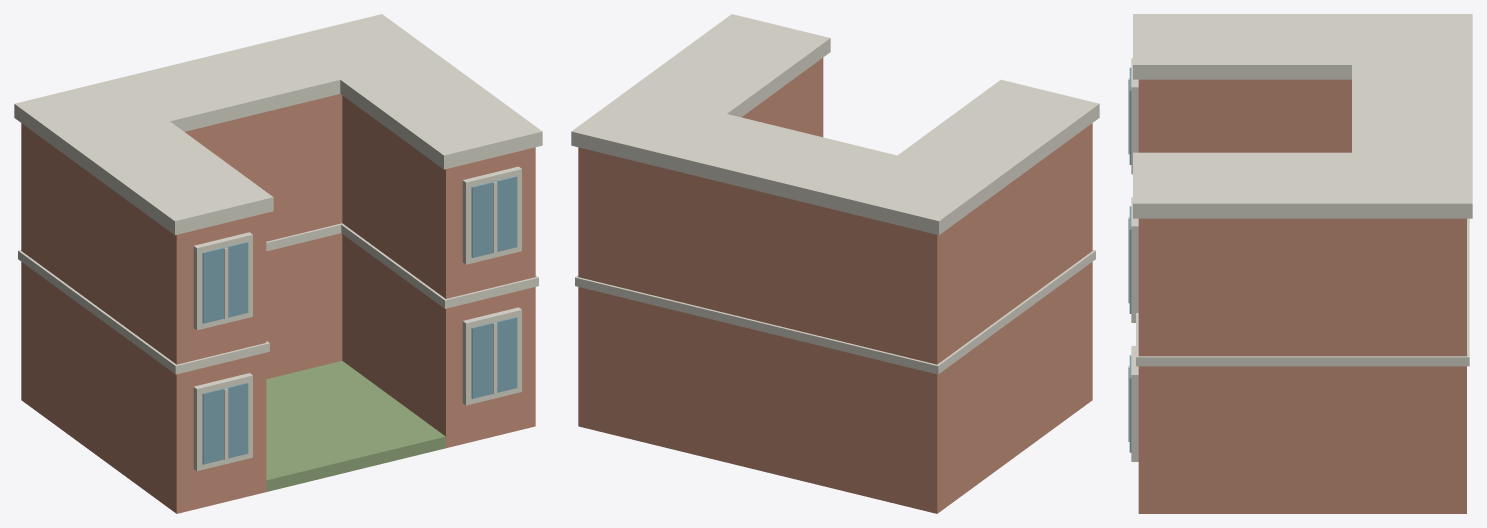
The model's file is voxel-city-districts-courtyard-rowhouse-e4903721__24761.glb.
The picture shows the model from 3 angles, left to right: view 1: azimuth 30°, elevation 25°; view 2: azimuth 150°, elevation 25°; view 3: azimuth 270°, elevation 25°; orthographic projection. The views are drawn at different scales.
Visible parts, largest first — view 1: courtyard-rowhouse-brick, courtyard-rowhouse-concrete, courtyard-rowhouse-green, courtyard-rowhouse-glass; view 2: courtyard-rowhouse-brick, courtyard-rowhouse-concrete; view 3: courtyard-rowhouse-brick, courtyard-rowhouse-concrete, courtyard-rowhouse-glass.
Boxes of the visible parts, <box> form: courtyard-rowhouse-brick: <box>21,94,535,513</box>; courtyard-rowhouse-concrete: <box>14,14,542,470</box>; courtyard-rowhouse-green: <box>266,361,445,491</box>; courtyard-rowhouse-glass: <box>202,176,517,464</box>; courtyard-rowhouse-brick: <box>578,58,1092,513</box>; courtyard-rowhouse-concrete: <box>571,14,1099,374</box>; courtyard-rowhouse-brick: <box>1138,79,1466,513</box>; courtyard-rowhouse-concrete: <box>1128,14,1472,461</box>; courtyard-rowhouse-glass: <box>1129,67,1131,452</box>.
Bounding box in the file's own units: 8.2 × 6.3 × 6.29.
